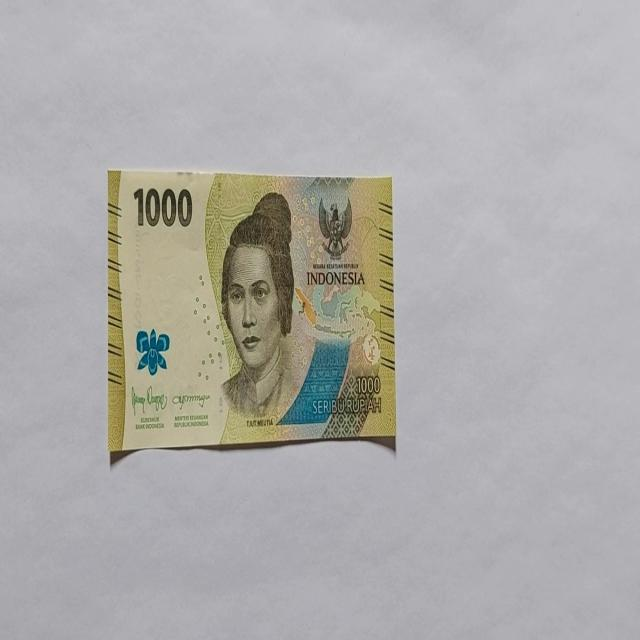seribu rupiah kertas: (107, 167, 396, 459)
